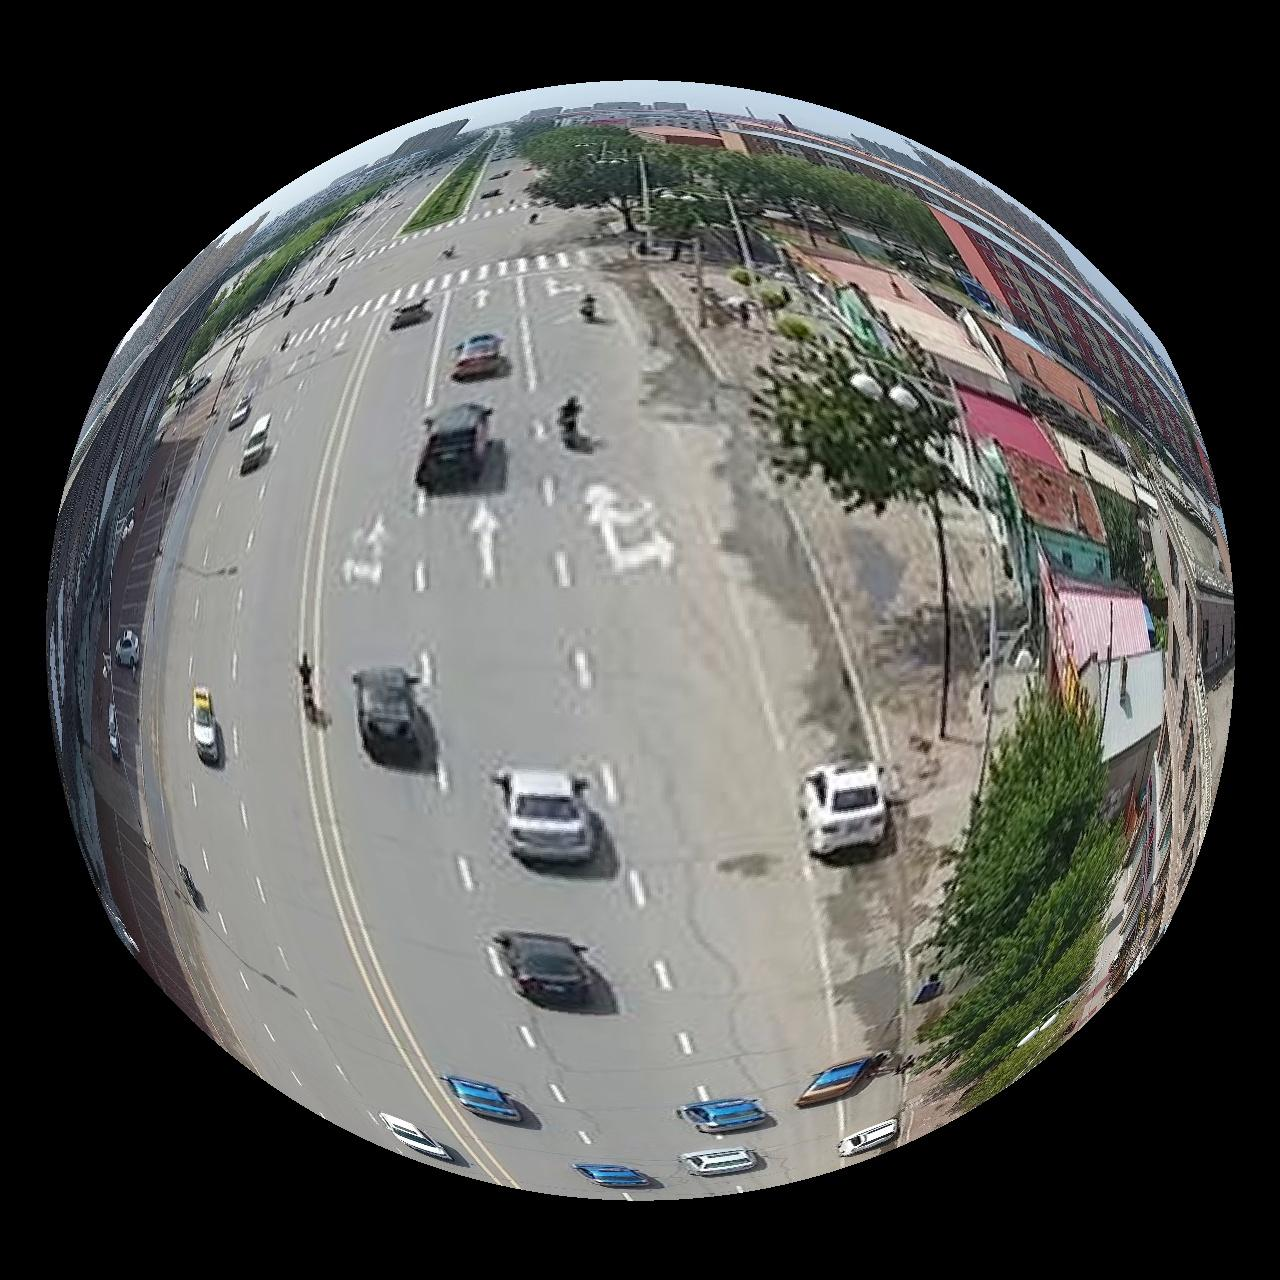building: (959, 381, 1235, 850), (937, 210, 1218, 498)
cars: (495, 933, 617, 1015), (495, 771, 597, 865), (352, 667, 437, 774), (802, 763, 888, 858), (416, 404, 491, 493), (797, 1055, 890, 1110), (442, 1078, 522, 1124), (379, 1114, 450, 1163), (678, 1099, 771, 1136), (451, 334, 508, 381), (191, 686, 222, 769), (573, 1165, 660, 1192), (680, 1150, 760, 1179), (839, 1121, 900, 1158), (239, 413, 268, 475)
trees: (755, 316, 978, 738), (920, 685, 1129, 1107), (520, 124, 962, 285)
